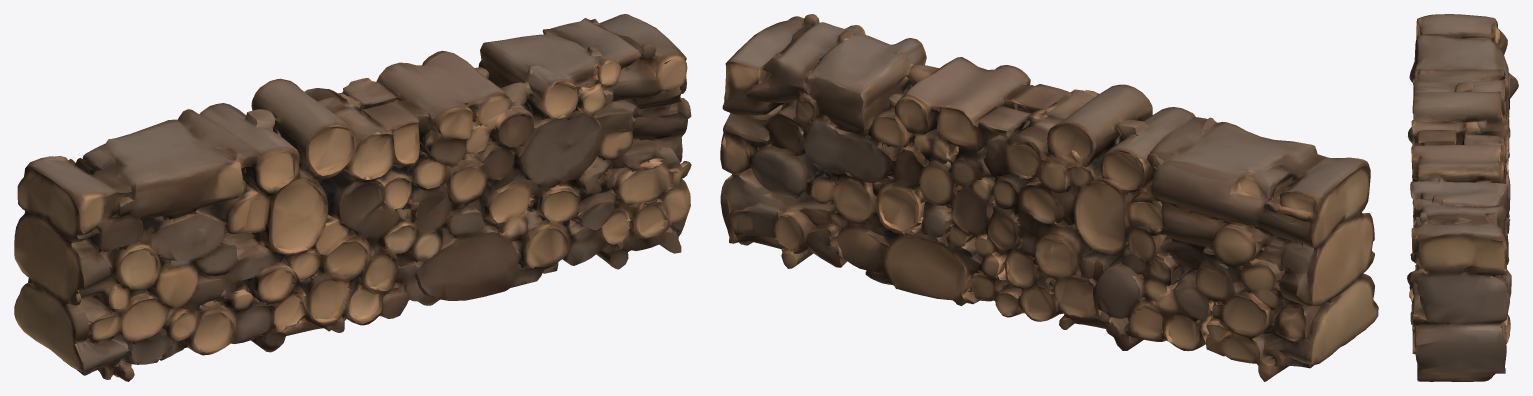
The model's file is FirewoodRack.glb.
The picture shows the model from 3 angles, left to right: view 1: azimuth 30°, elevation 25°; view 2: azimuth 150°, elevation 25°; view 3: azimuth 270°, elevation 25°; orthographic projection. The views are drawn at different scales.
Parts seen in each view (by area): view 1: FirewoodRack; view 2: FirewoodRack; view 3: FirewoodRack.
Part boxes in pixels (x1=…): FirewoodRack: x1=14, y1=14, x2=691, y2=381; FirewoodRack: x1=720, y1=14, x2=1378, y2=381; FirewoodRack: x1=1407, y1=14, x2=1518, y2=381.
Size of the model in its own units: 2.88 by 0.9824 by 0.6122.
1 material, 1 textured.
